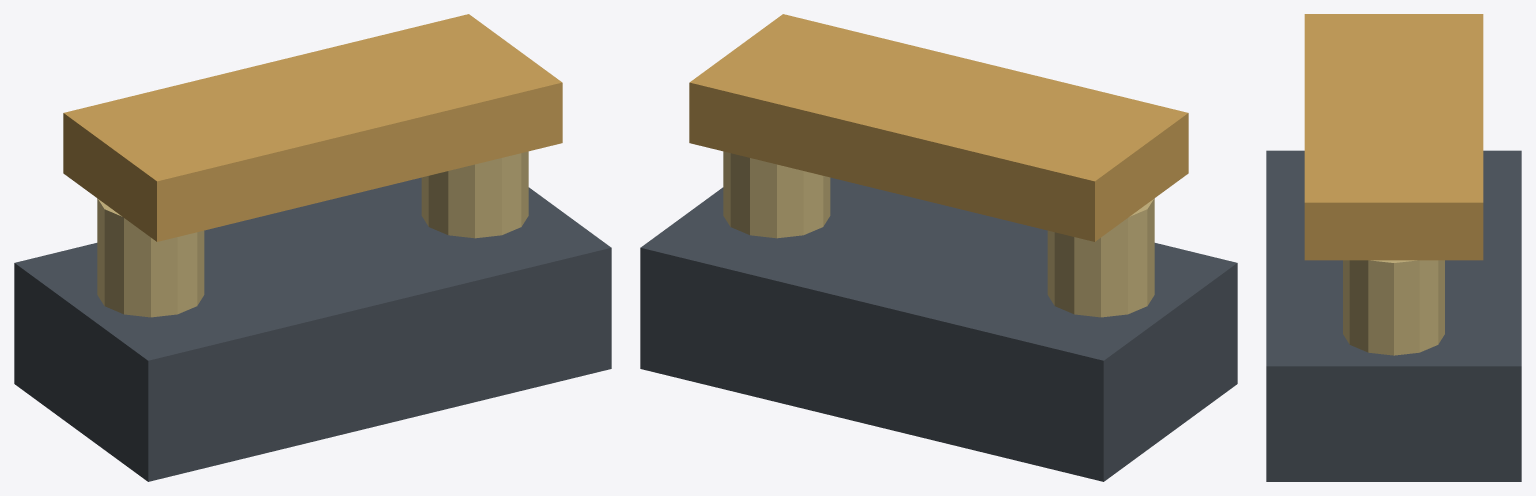
3 views of the same model, side by side, from view 1: azimuth 30°, elevation 25°; view 2: azimuth 150°, elevation 25°; view 3: azimuth 270°, elevation 25° (orthographic). The views are drawn at different scales.
Parts seen in each view (by area): view 1: Connector_Polymer, Warning_Amber, Gold_ENIG; view 2: Connector_Polymer, Warning_Amber, Gold_ENIG; view 3: Connector_Polymer, Warning_Amber, Gold_ENIG.
Part boxes in pixels (left/top/right/bottom): Connector_Polymer: left=14, top=177, right=611, bottom=481; Warning_Amber: left=63, top=14, right=562, bottom=241; Gold_ENIG: left=97, top=151, right=528, bottom=317; Connector_Polymer: left=640, top=177, right=1237, bottom=481; Warning_Amber: left=689, top=14, right=1188, bottom=241; Gold_ENIG: left=723, top=151, right=1154, bottom=317; Connector_Polymer: left=1266, top=150, right=1521, bottom=481; Warning_Amber: left=1304, top=14, right=1483, bottom=260; Gold_ENIG: left=1343, top=260, right=1444, bottom=355.
Bounding box in the file's own units: 0.008 × 0.0046 × 0.004.
